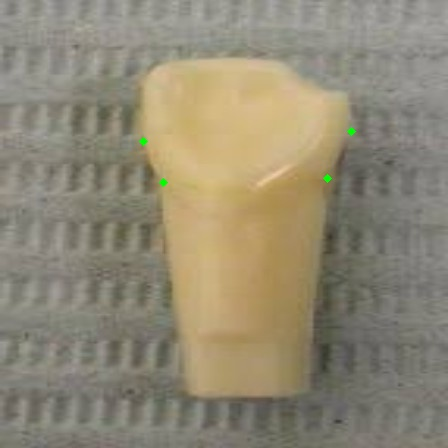coin_1: (327, 178, 347, 198)
coin_2: (351, 131, 371, 151)
coin_3: (163, 182, 183, 202)
coin_4: (143, 141, 163, 161)
